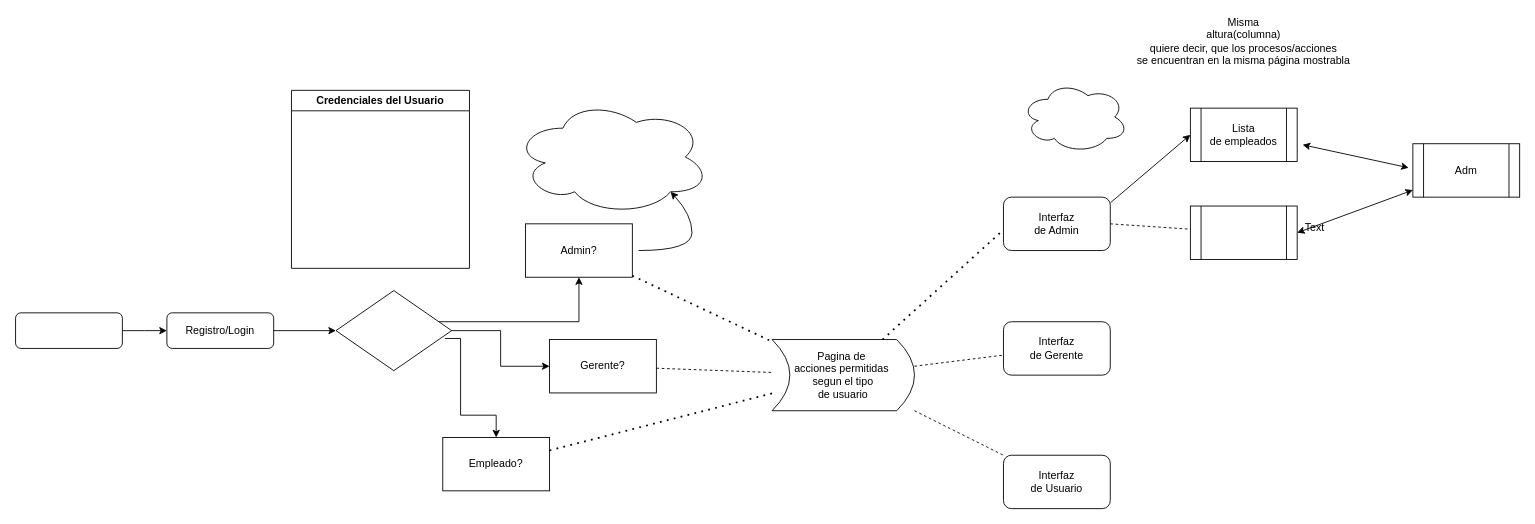
Some shapes in this 1535 by 524 pixel diagram are drawn without their labels. The shapes that lost their labels are listed below. From the top down, each one's box as (x1, y1, x2, y2) in pixels, then its label:
(1020, 81, 1128, 153): Primer showcase
(513, 98, 710, 215): Se encarga de dar permisos a unas cuentas sobre otras
(1189, 205, 1297, 259): Filtros para empleados
(15, 312, 122, 348): Persona
(335, 290, 452, 371): Credenciales
